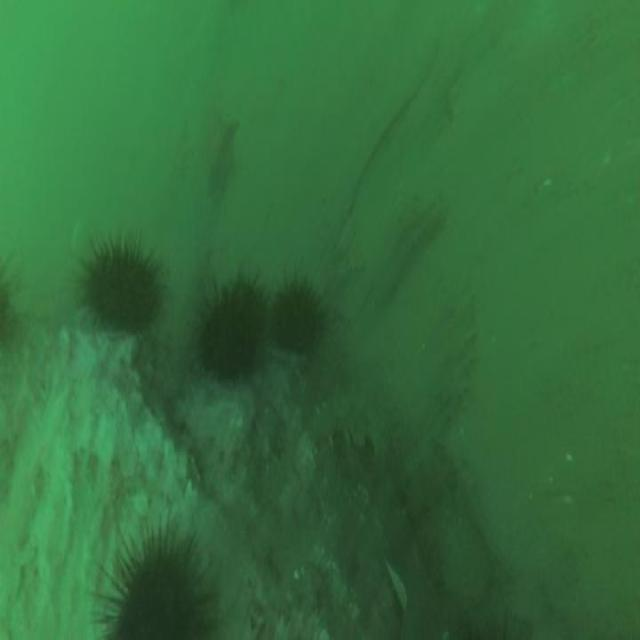echinus: (85, 510, 222, 640), (77, 229, 170, 337), (185, 268, 268, 382), (263, 261, 328, 365)
